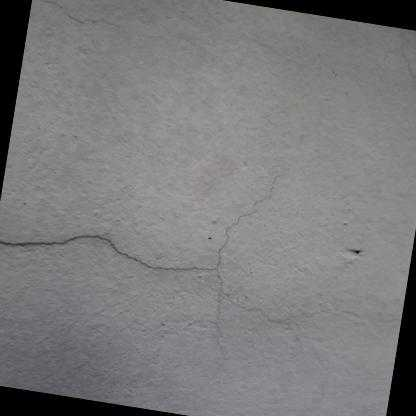crack: (0, 212, 319, 329)
